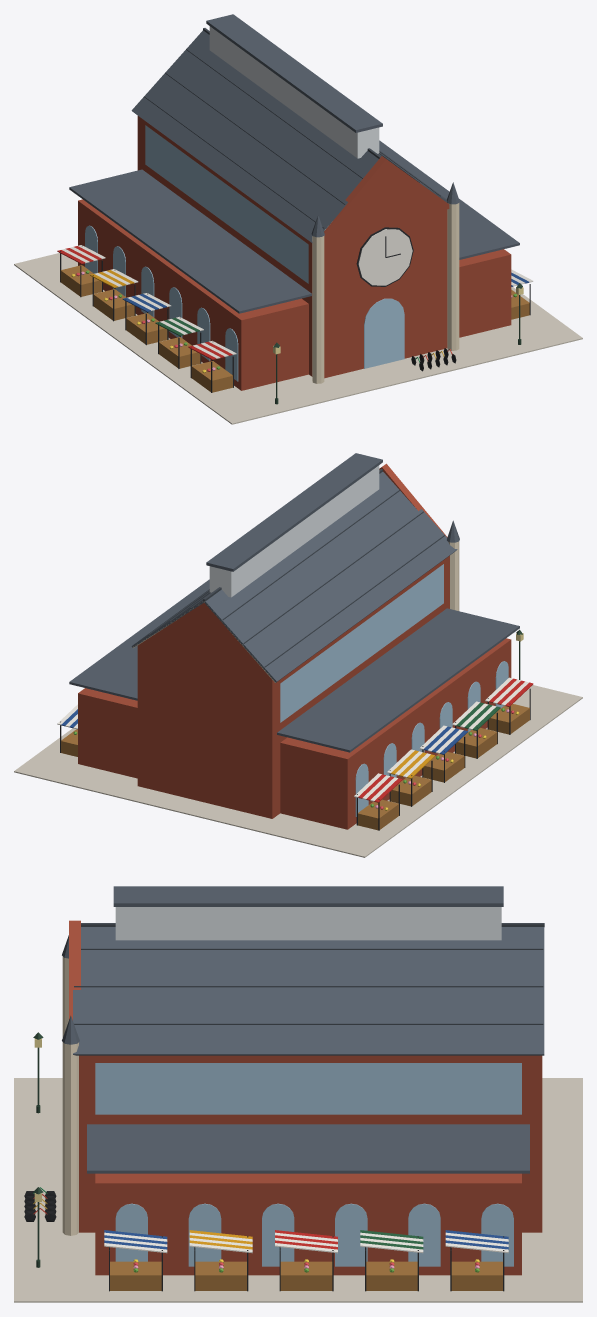
File: Simge_kapali_pazar_Hafif.fbx
The picture shows the model from 3 angles, top to bottom: view 1: azimuth 30°, elevation 25°; view 2: azimuth 150°, elevation 25°; view 3: azimuth 270°, elevation 25°; orthographic projection. The views are drawn at different scales.
Visible parts, largest first — view 1: Simge_kapali_pazar_Hafif; view 2: Simge_kapali_pazar_Hafif; view 3: Simge_kapali_pazar_Hafif.
Part boxes in pixels (<box>): Simge_kapali_pazar_Hafif: <box>14,14,582,424</box>; Simge_kapali_pazar_Hafif: <box>14,453,582,857</box>; Simge_kapali_pazar_Hafif: <box>14,886,582,1302</box>.
Bounding box in the file's own units: 26 × 16.08 × 28.
